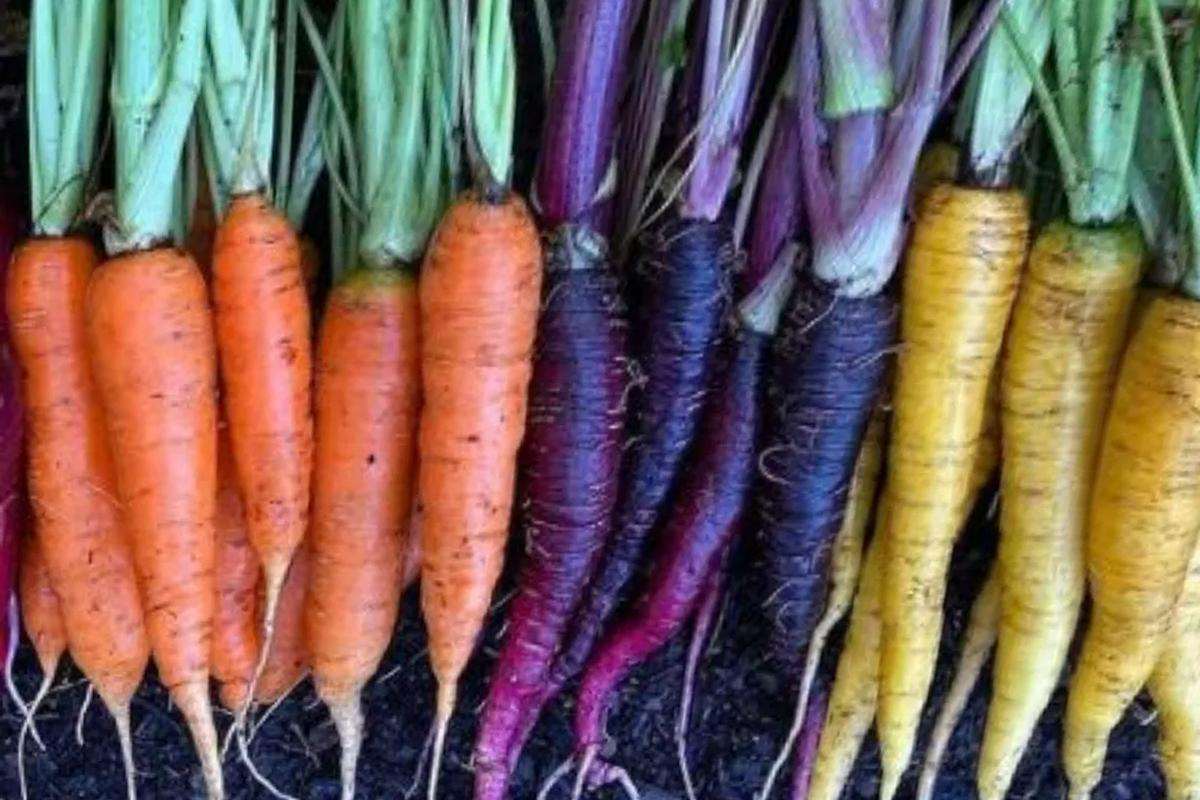carrot: (0, 0, 230, 800), (218, 188, 417, 800), (8, 241, 216, 778), (410, 186, 536, 662)
